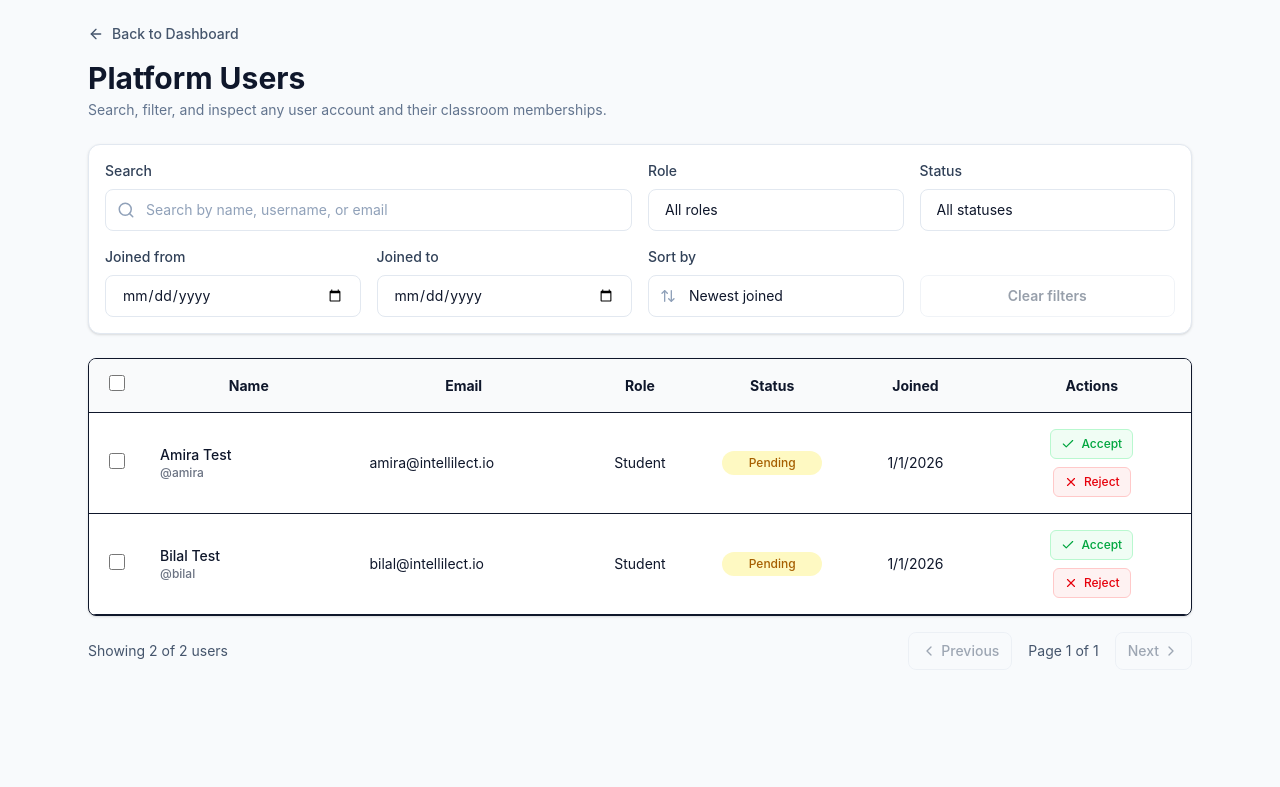
Test case: UsersDirectoryPage bulk status changes › surfaces per-account failures instead of reporting success
Check: the text "Amira Test" is shown, box [160,446,232,463]
Click the checkbox named "Select every changeable account" at (116, 383), box [108,375,124,391]
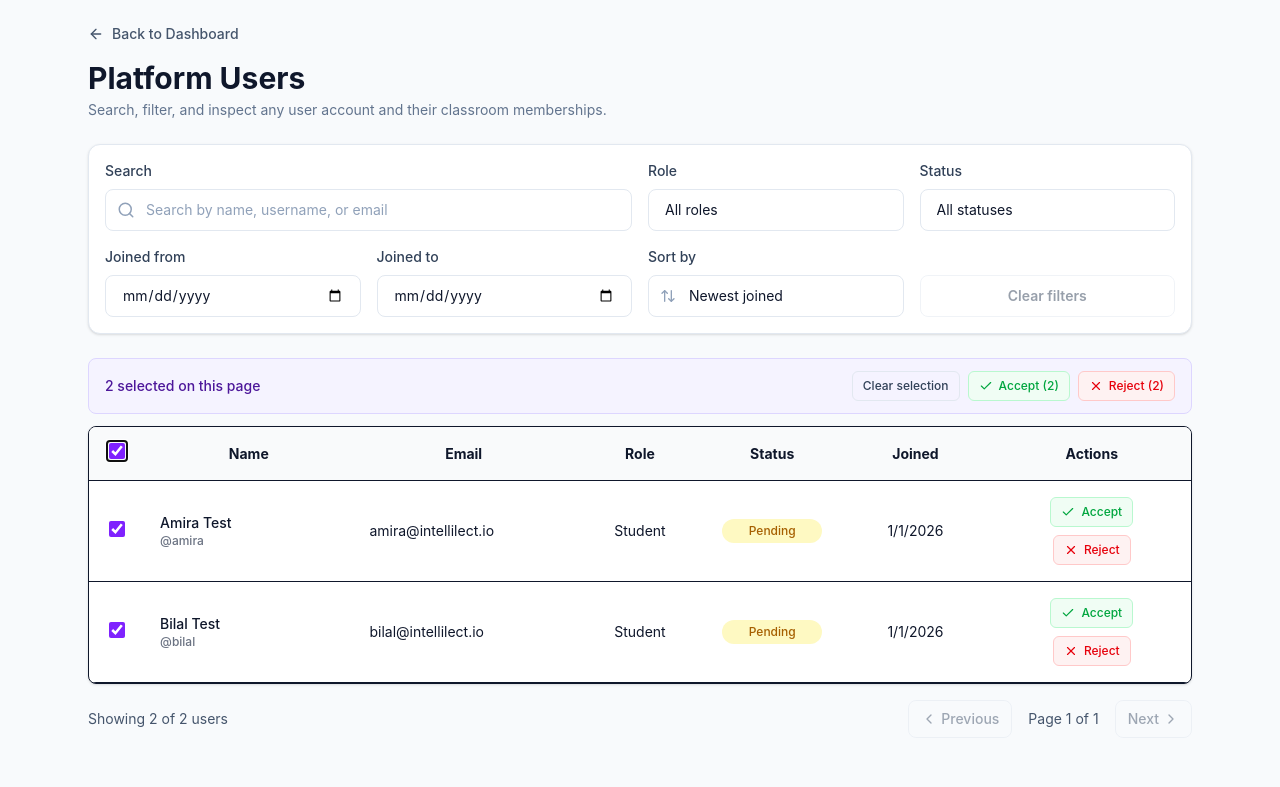
Click the button "Accept (2)" at (1019, 386), box [968,371,1070,401]
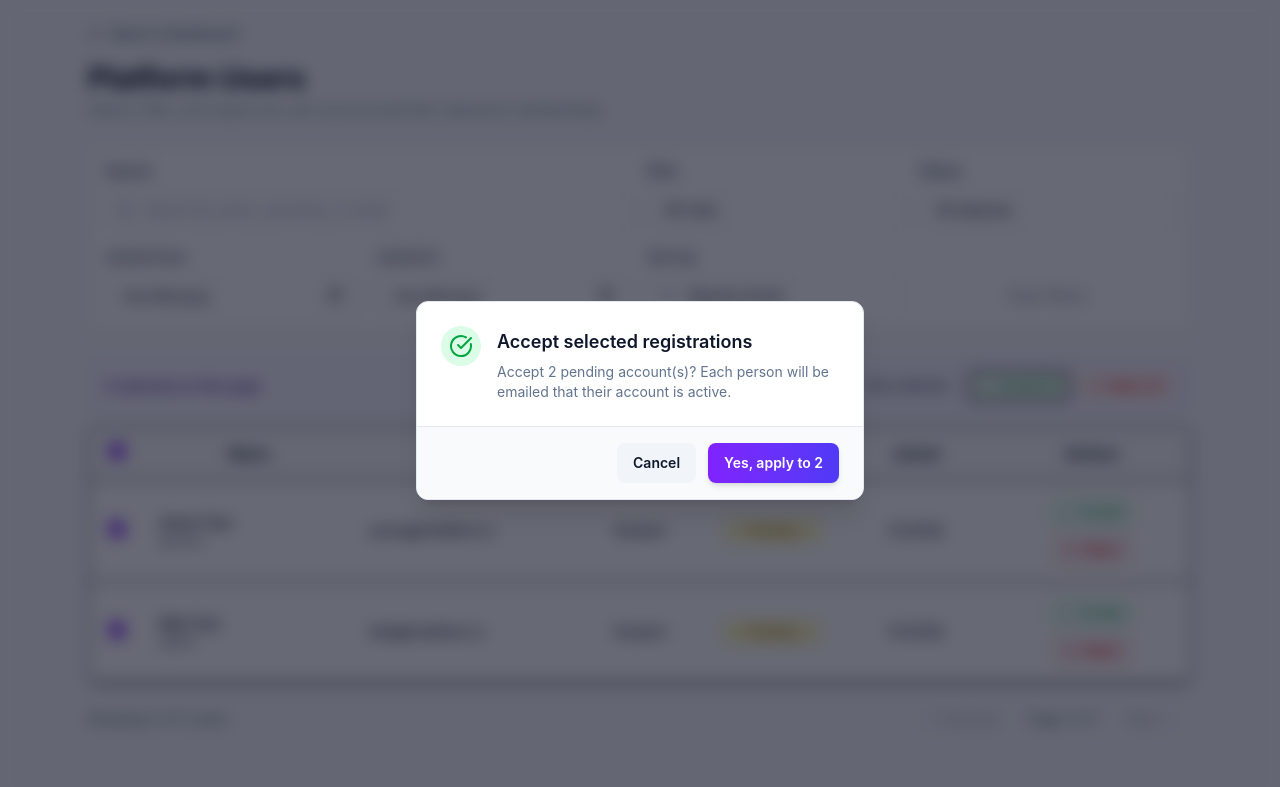
Click the button "Yes, apply to 2" at (774, 462), box [708,442,839,482]
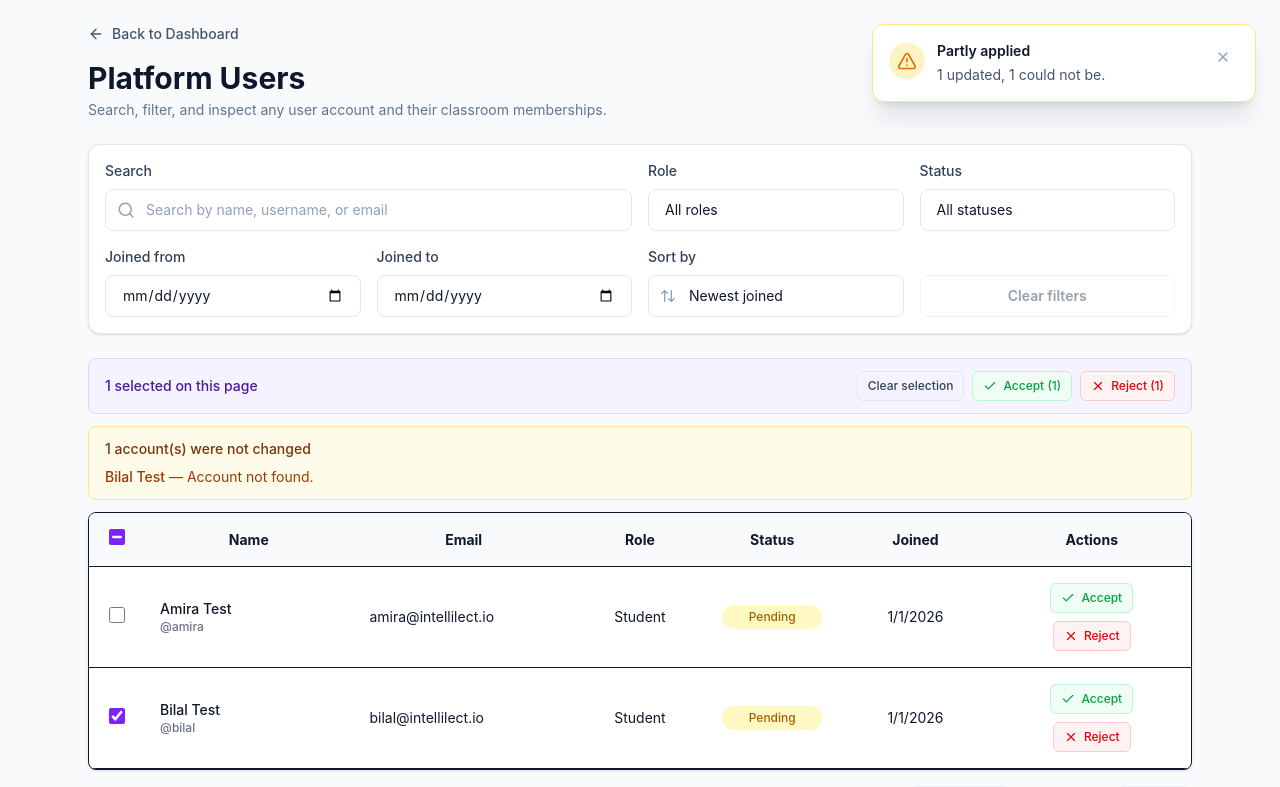
Check: the text "1 account(s) were not changed" is shown, box [105,440,311,457]
Check: the list item "Bilal Test — Account not found." is shown, box [105,468,314,485]
Check: the text "1 selected on this page" is shown, box [105,376,258,396]
